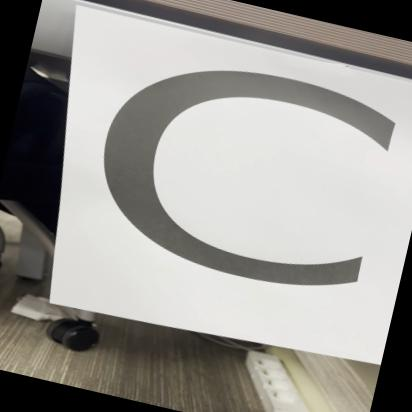seat: (8, 0, 412, 380)
